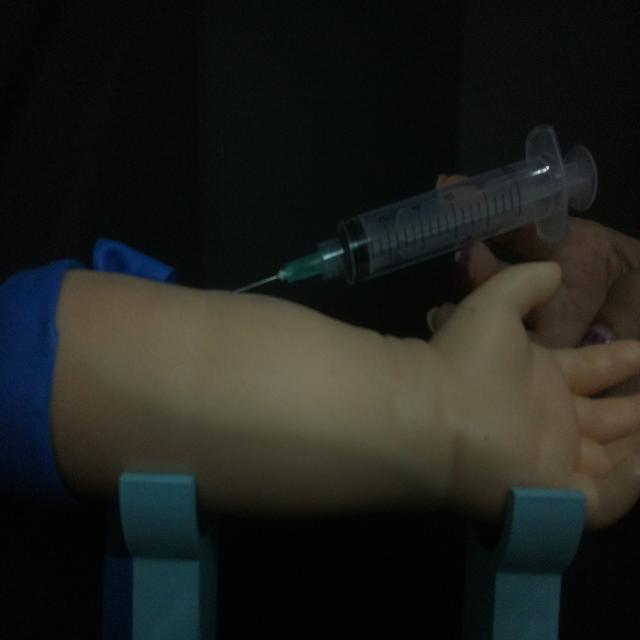22deg: (228, 118, 601, 300)
